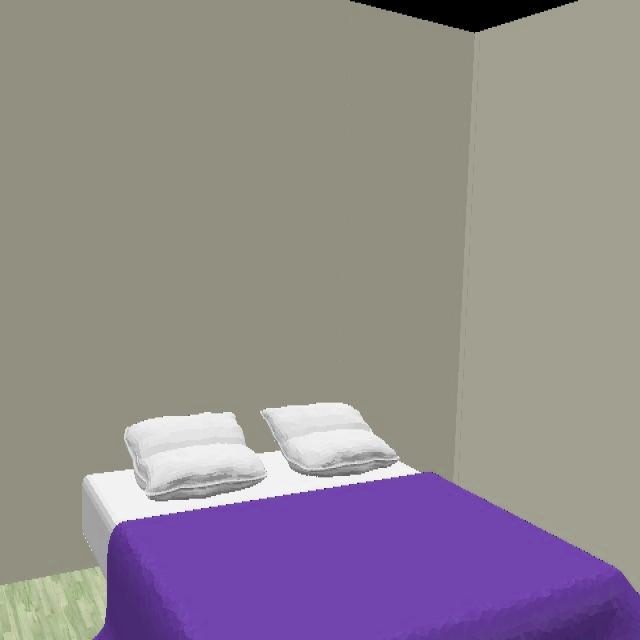bed: (81, 404, 640, 640)
pillow: (123, 412, 268, 503), (260, 403, 400, 476)
